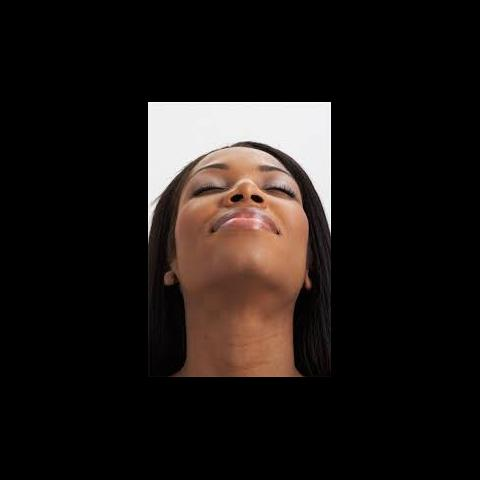closed: (180, 158, 304, 210)
